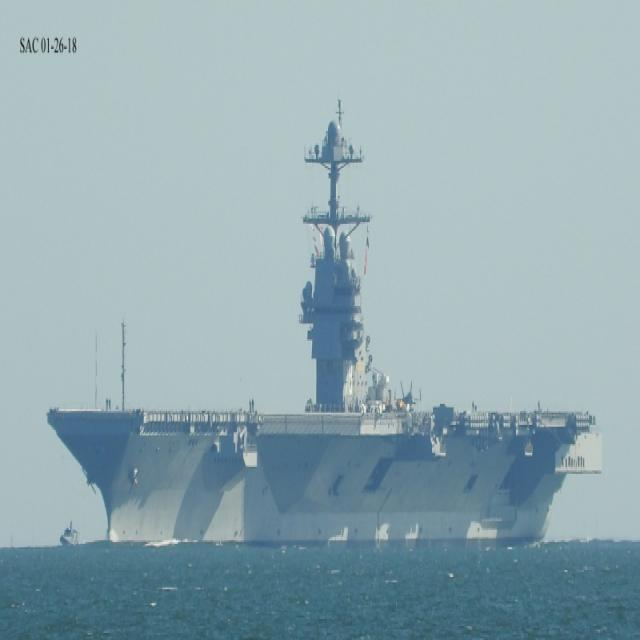Portanaves: (43, 99, 606, 555)
